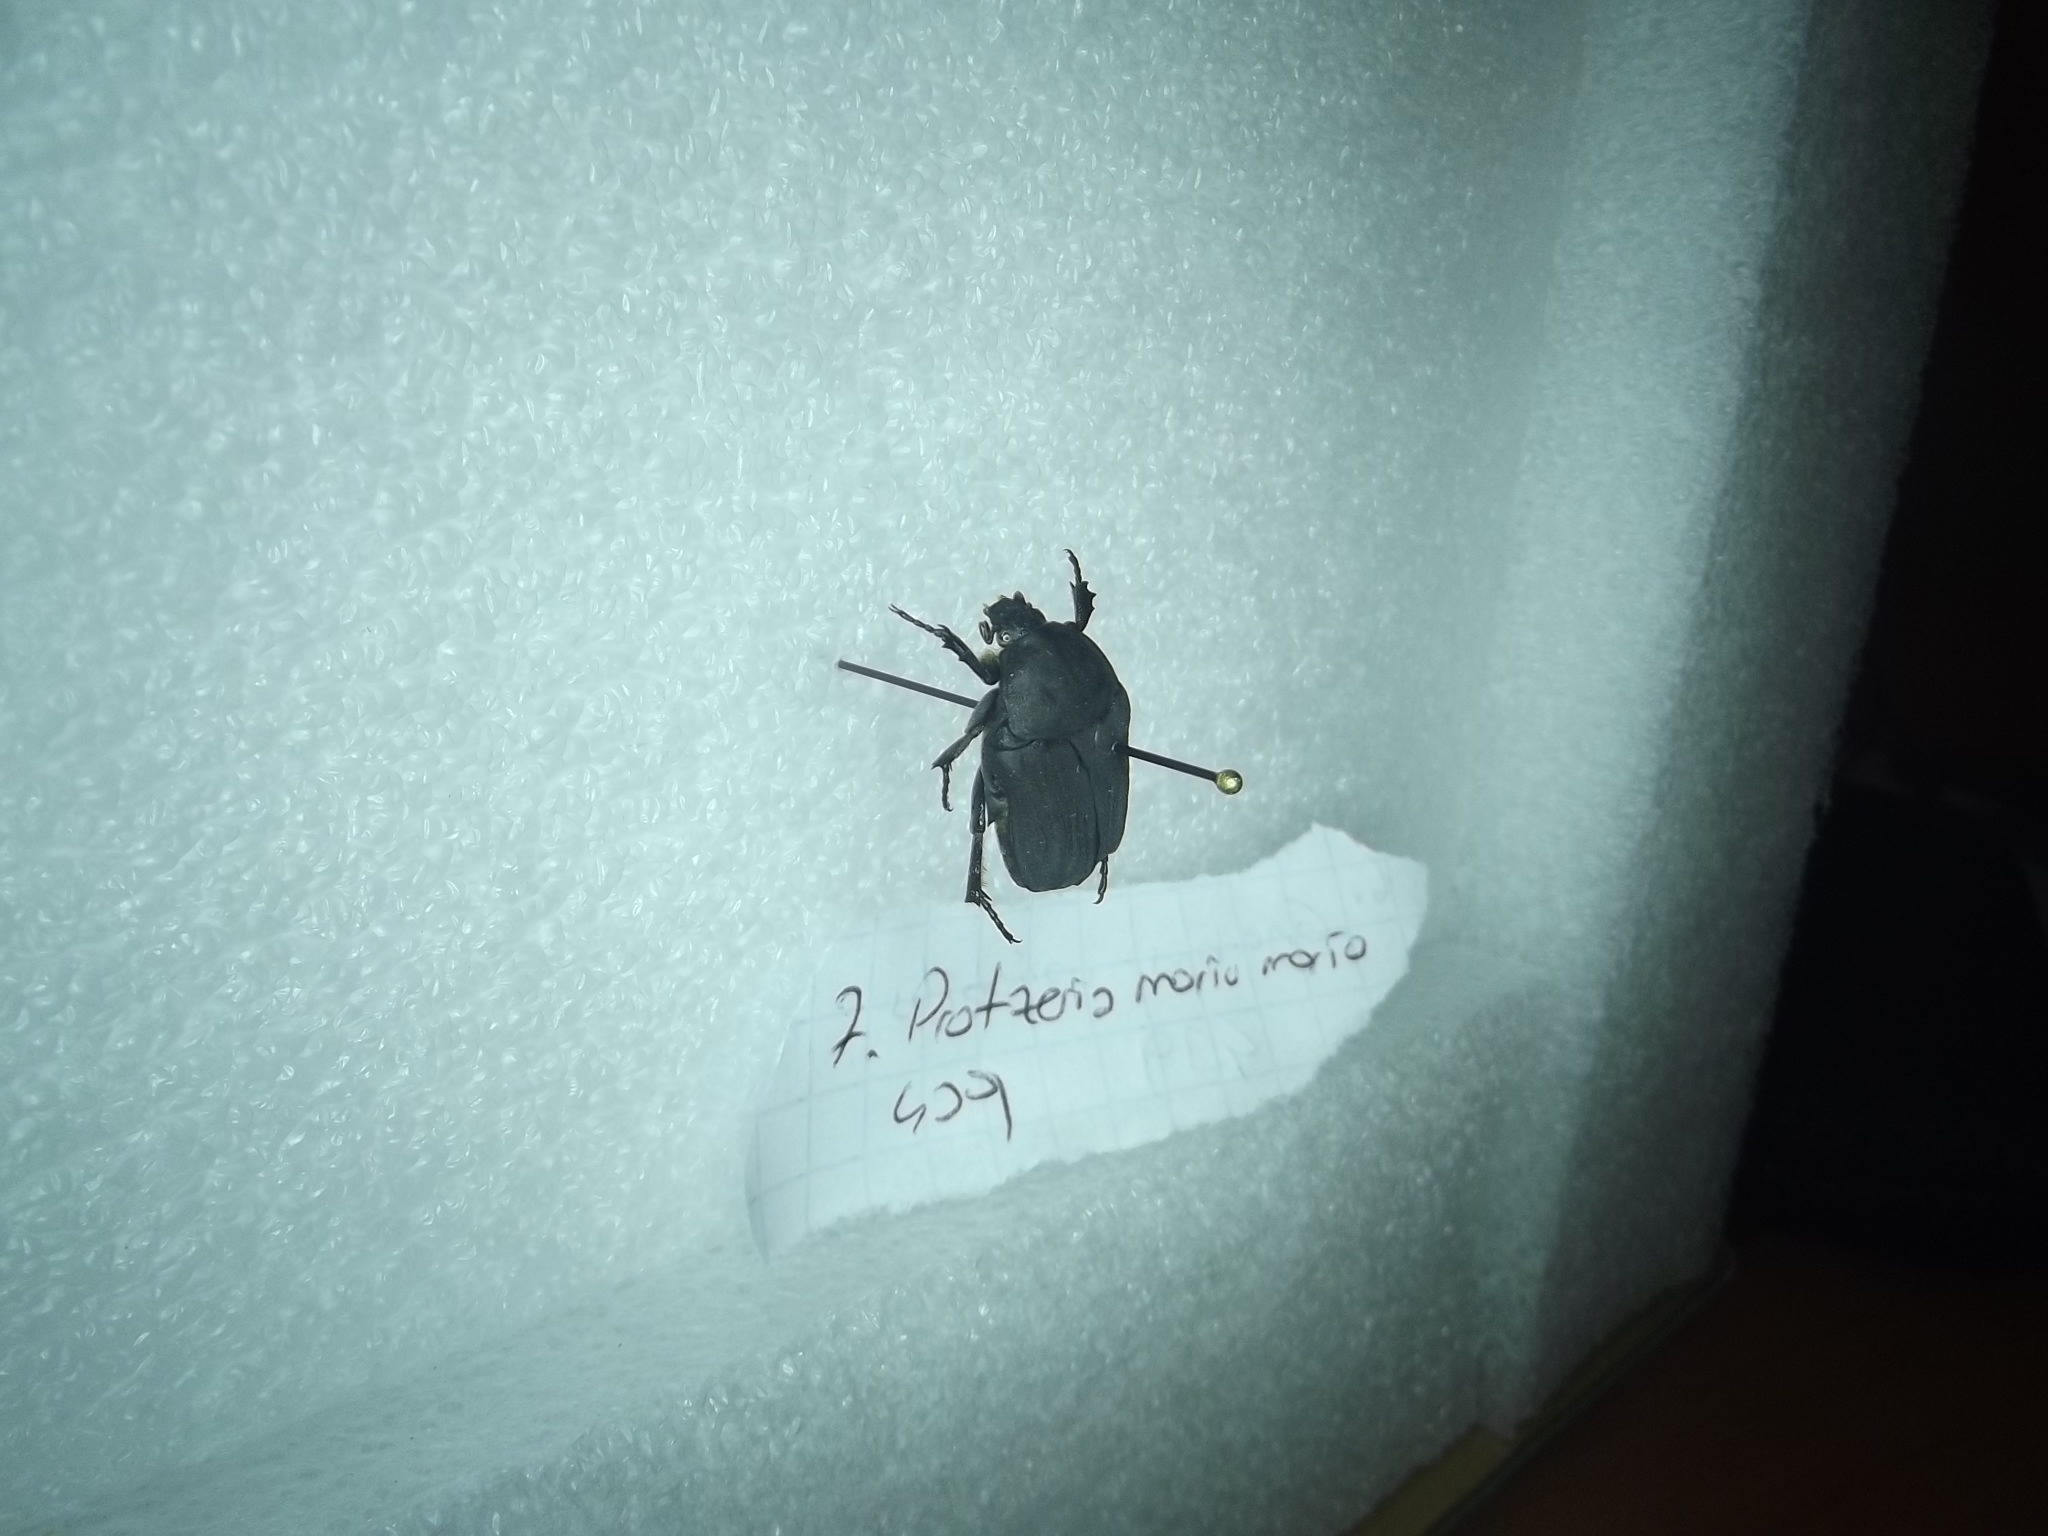Protaetia_morio_morio: (885, 549, 1158, 949)
